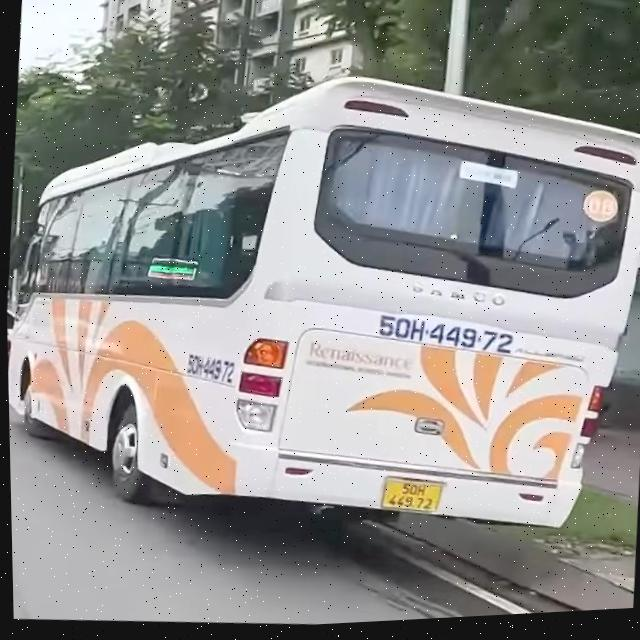car: (2, 40, 640, 568)
plate: (374, 463, 448, 523)
